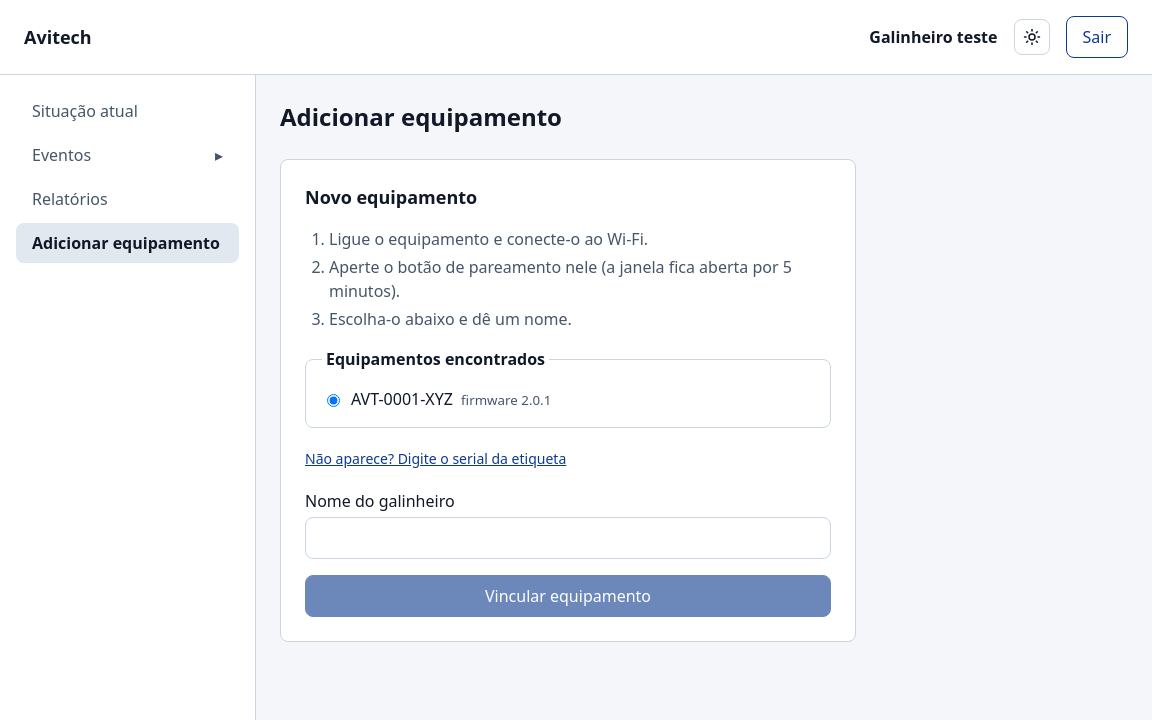
it: Adicionar equipamento (logado) › erro 404 (NOT_FOUND) mostra a mensagem para o produtor
Expected: the radio button labelled "AVT-0001-XYZ firmware 2.0.1" is shown, 327,394 -> 340,407
In the field labelled "Nome do galinheiro": point(568, 538) 305,517 -> 831,559, type "Novo"
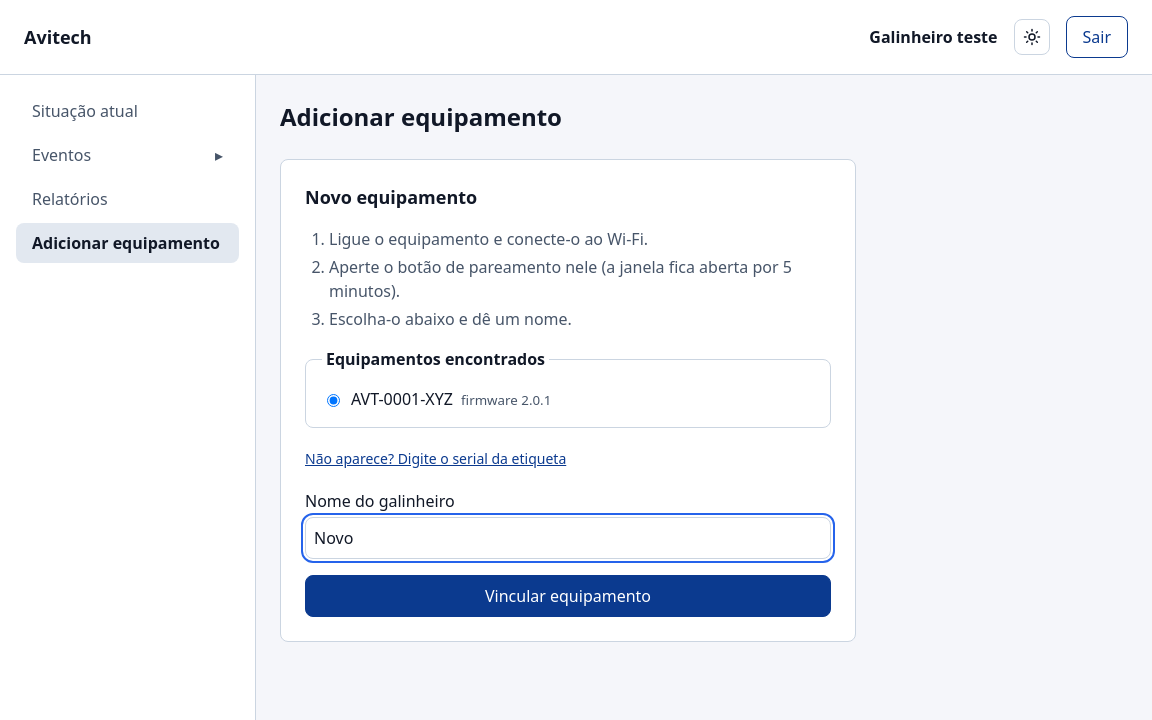
Click the button "Vincular equipamento": point(568, 596) 305,575 -> 831,617
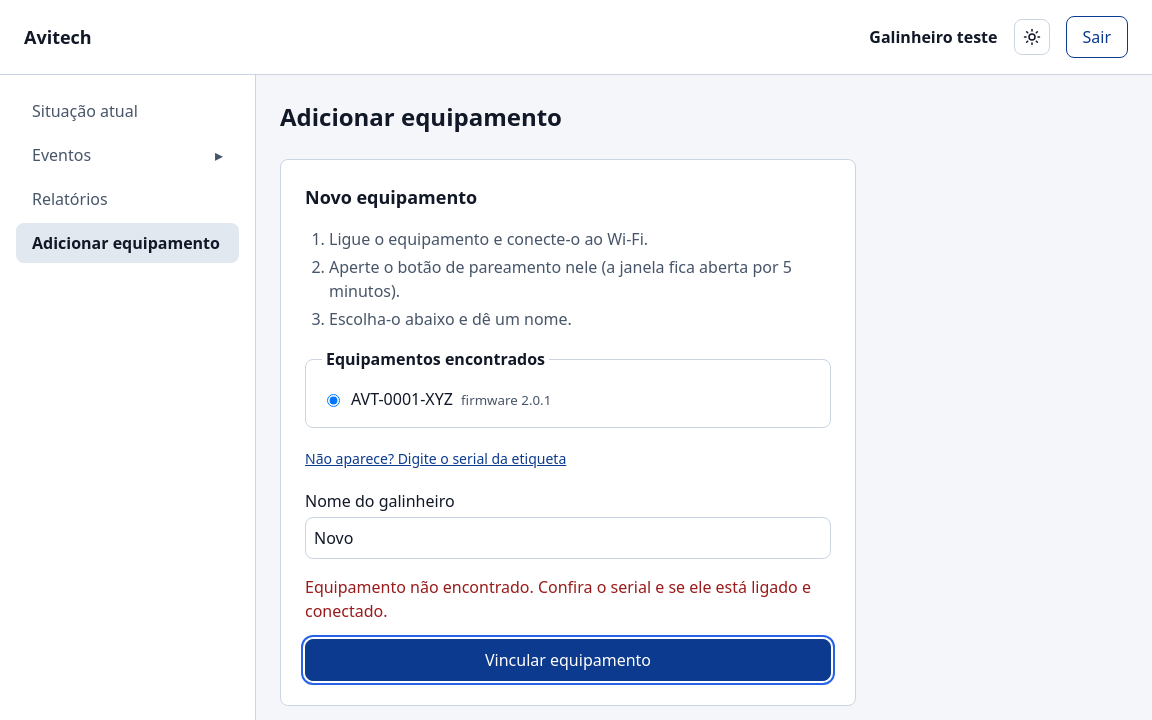
Expected: the message shows "Equipamento não encontrado", 305,576 -> 811,622
